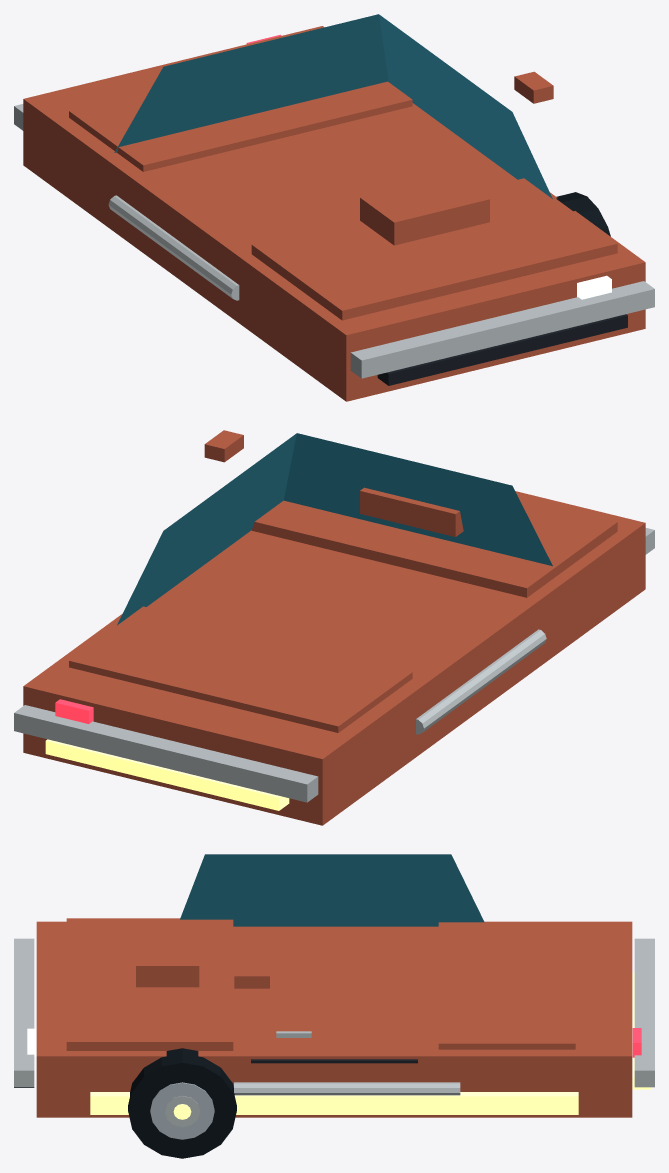
The model's file is classic.glb.
3 views of the same model, one above another, from view 1: azimuth 30°, elevation 25°; view 2: azimuth 150°, elevation 25°; view 3: azimuth 270°, elevation 25° (orthographic). The views are drawn at different scales.
Visible parts, largest first — view 1: sculpted lower body, faceted glass cabin, formed hood, rear deck, front chrome bumper, hood scoop, front splitter, left side exhaust, side mirror, rubber tire, front LED; view 2: sculpted lower body, faceted glass cabin, rear deck, formed hood, rear chrome bumper, rear diffuser, hood scoop, left side exhaust, side mirror, rear LED; view 3: sculpted lower body, faceted glass cabin, formed hood, rear deck, side skirt, rubber tire, hood scoop, right side exhaust, front chrome bumper, rear chrome bumper, machined wheel face, door seam (+2 smaller).
Part boxes in pixels (<box>): sculpted lower body: <box>23,26,645,401</box>; faceted glass cabin: <box>114,14,552,198</box>; formed hood: <box>251,178,617,320</box>; rear deck: <box>69,81,412,171</box>; front chrome bumper: <box>350,281,654,378</box>; hood scoop: <box>360,174,489,245</box>; front splitter: <box>377,314,627,385</box>; left side exhaust: <box>108,195,239,300</box>; side mirror: <box>514,71,553,103</box>; rubber tire: <box>556,192,610,236</box>; front LED: <box>577,275,611,299</box>; sculpted lower body: <box>23,491,645,825</box>; faceted glass cabin: <box>117,433,552,625</box>; rear deck: <box>69,606,412,732</box>; formed hood: <box>251,498,617,597</box>; rear chrome bumper: <box>14,705,318,802</box>; rear diffuser: <box>45,739,289,810</box>; hood scoop: <box>360,487,463,536</box>; left side exhaust: <box>416,629,546,734</box>; side mirror: <box>204,430,243,462</box>; rear LED: <box>55,699,93,723</box>; sculpted lower body: <box>36,921,632,1117</box>; faceted glass cabin: <box>180,854,484,926</box>; formed hood: <box>66,918,233,1050</box>; rear deck: <box>438,922,575,1049</box>; side skirt: <box>90,1092,578,1114</box>; rubber tire: <box>128,1048,236,1158</box>; hood scoop: <box>136,923,199,987</box>; right side exhaust: <box>234,1082,460,1095</box>; front chrome bumper: <box>14,938,34,1087</box>; rear chrome bumper: <box>634,938,654,1087</box>; machined wheel face: <box>150,1082,214,1139</box>; door seam: <box>251,1059,417,1063</box>.
Size of the model in its own units: 2.92 by 1.65 by 5.31.
